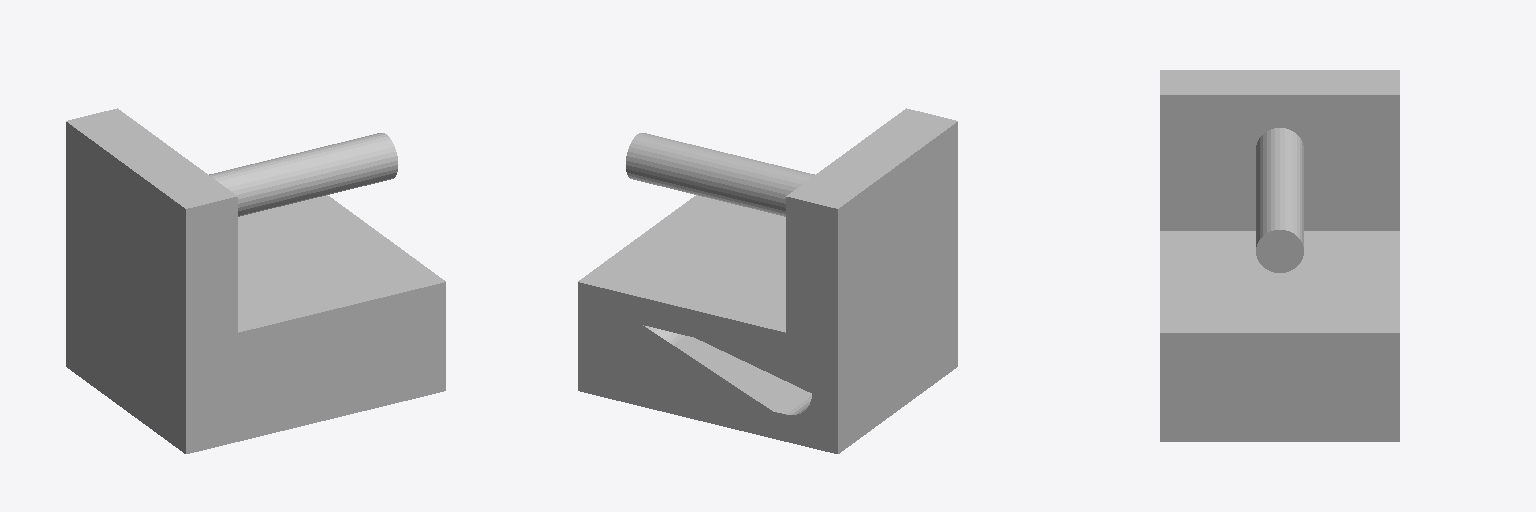
File: cart.obj
The picture shows the model from 3 angles: view 1: azimuth 30°, elevation 25°; view 2: azimuth 150°, elevation 25°; view 3: azimuth 270°, elevation 25°; orthographic projection.
Visible parts, largest first — view 1: Cube.002_Cube.001, Cylinder_Cylinder.002; view 2: Cube.002_Cube.001, Cylinder_Cylinder.002; view 3: Cube.002_Cube.001, Cylinder_Cylinder.002.
Boxes of the visible parts, box(x1,y1,x2,y2) form: Cube.002_Cube.001: box(66, 108, 445, 453); Cylinder_Cylinder.002: box(209, 133, 397, 216); Cube.002_Cube.001: box(578, 108, 957, 453); Cylinder_Cylinder.002: box(626, 133, 814, 216); Cube.002_Cube.001: box(1160, 70, 1399, 441); Cylinder_Cylinder.002: box(1256, 128, 1303, 272).
Size of the model in its own units: 0.05 by 0.045 by 0.04.